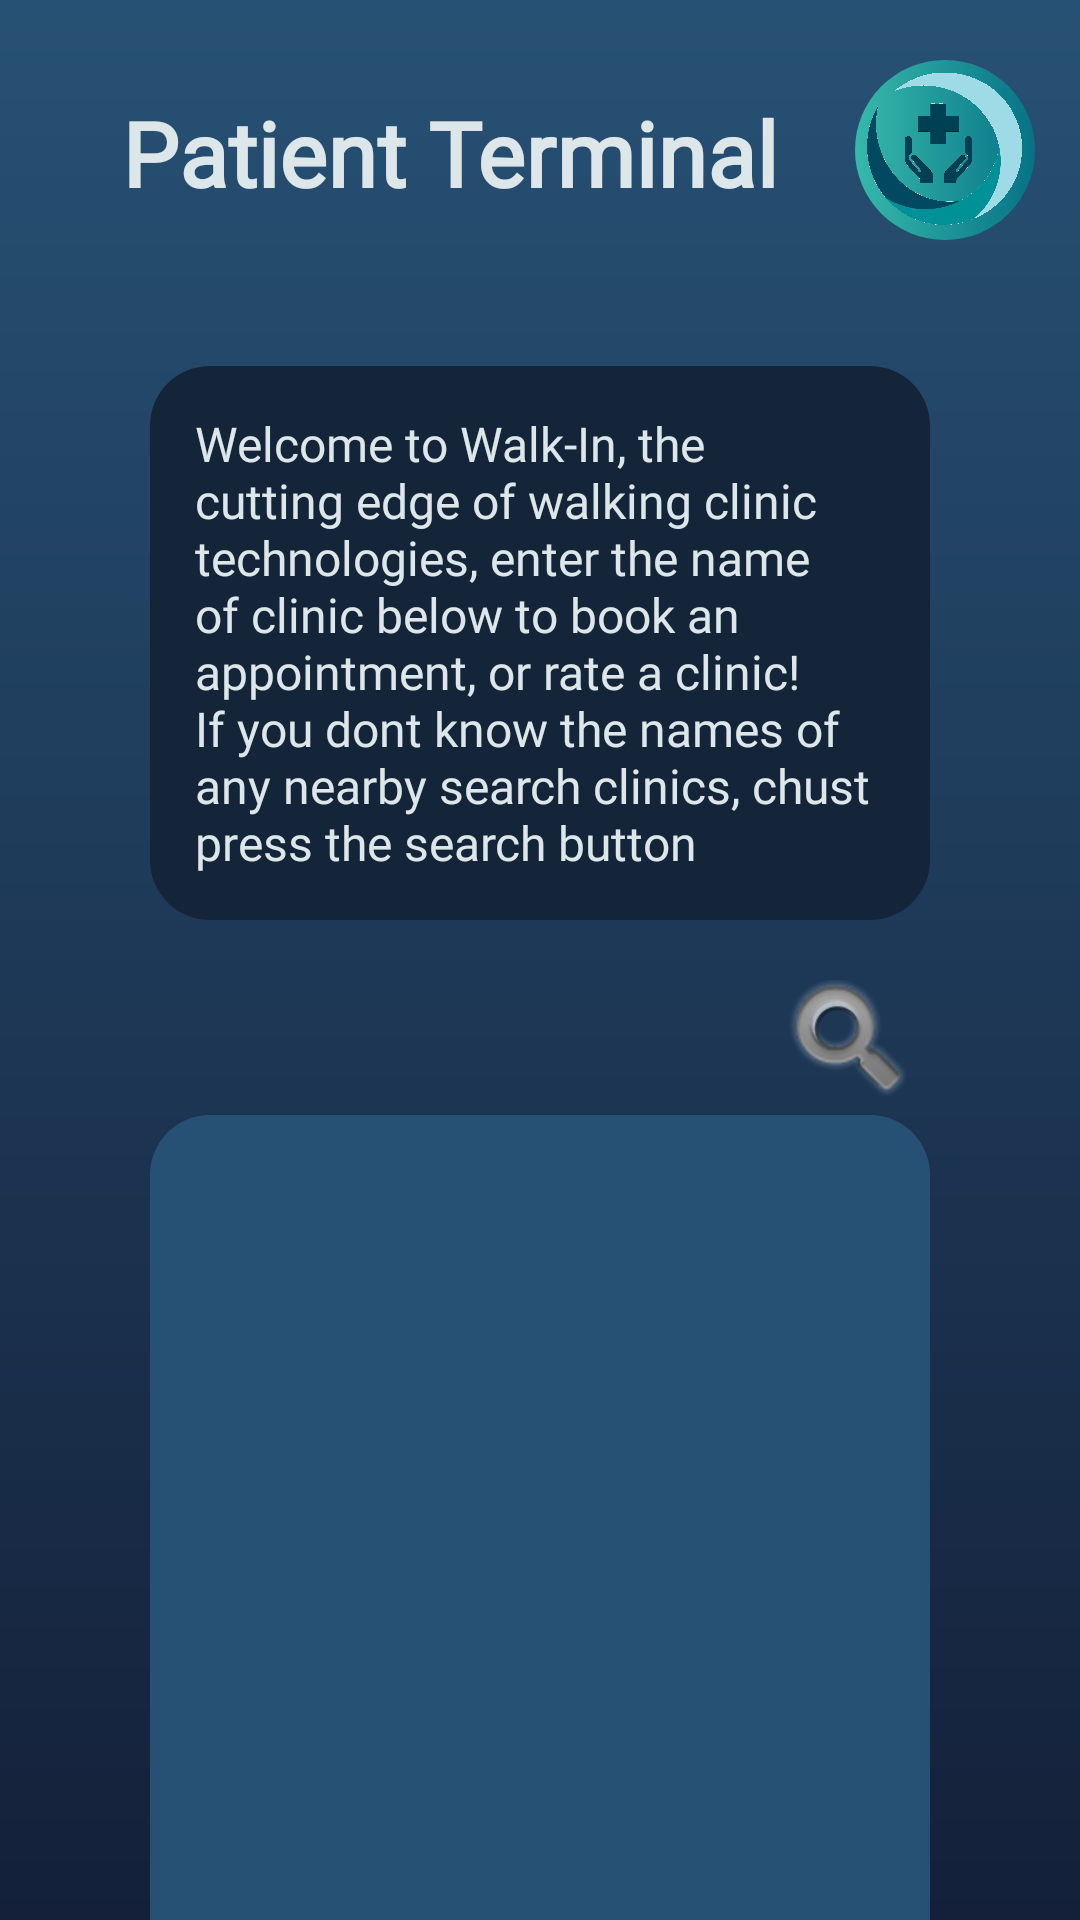

Named icons in this screenshot (1080*1920) and their centers, (x,y):
search category: (848,1037)
